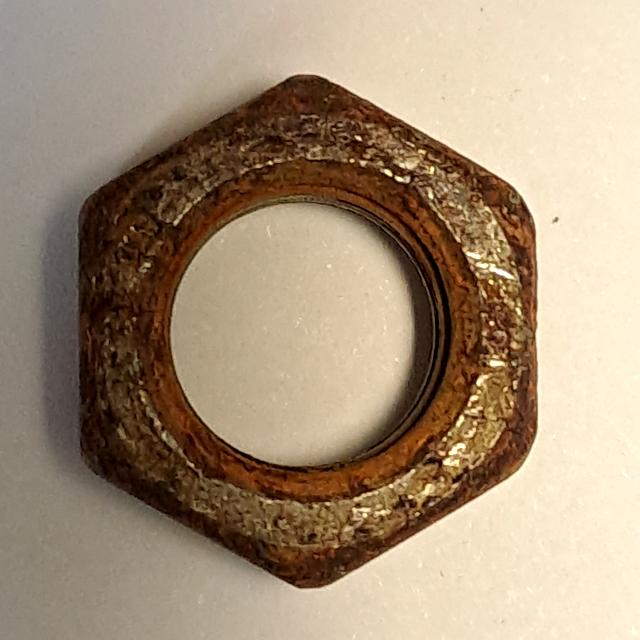Rust: (59, 55, 555, 604)
